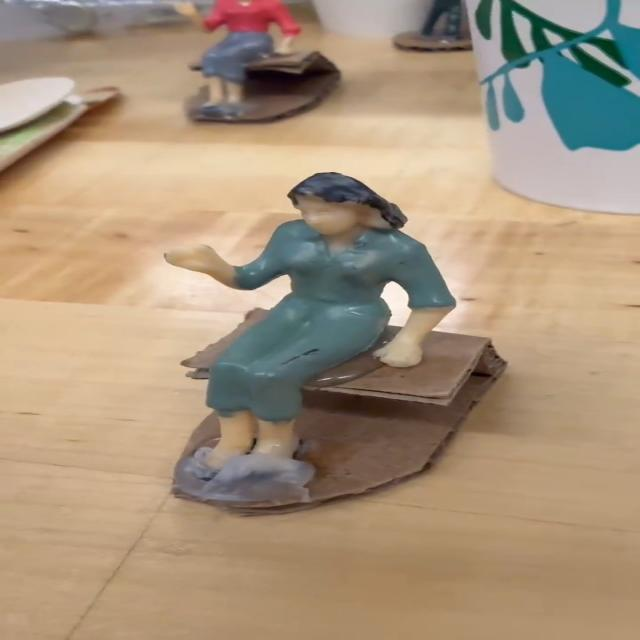Authorized: (66, 160, 493, 500)
